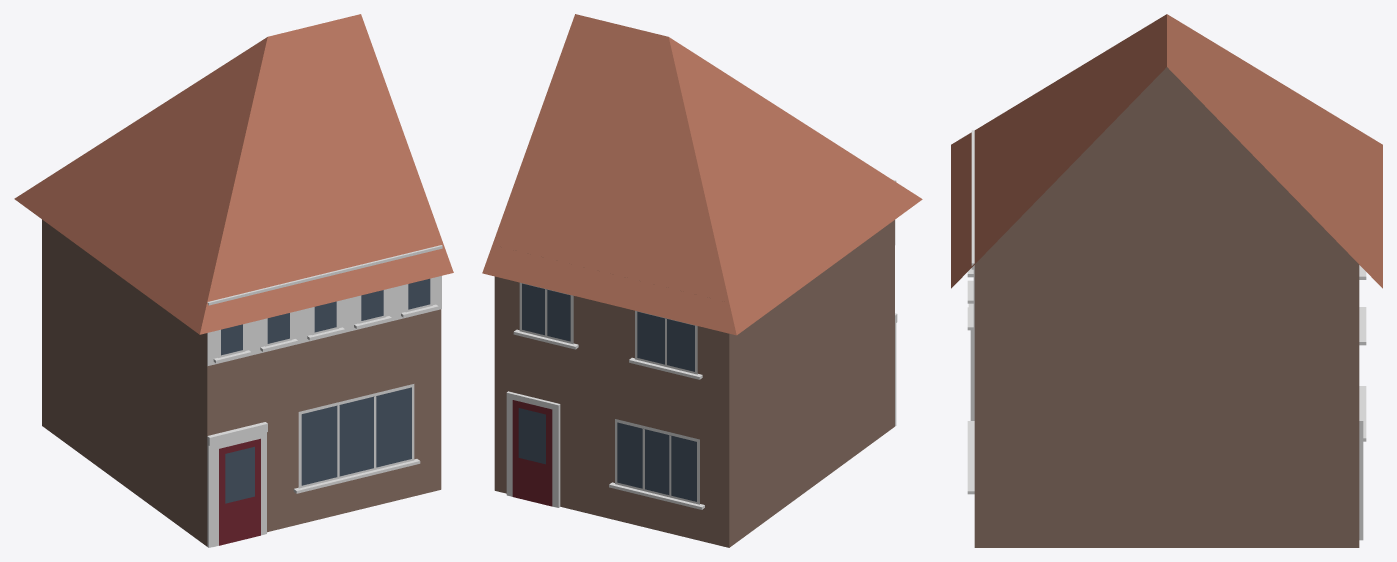
File: nn-band__band__2__hip__long__solid__endL.glb
3 renders of one model, left to right at view 1: azimuth 30°, elevation 25°; view 2: azimuth 150°, elevation 25°; view 3: azimuth 270°, elevation 25°, orthographic. The views are drawn at different scales.
Visible parts, largest first — view 1: nn-band__band__2__hip__long__solid__endL; view 2: nn-band__band__2__hip__long__solid__endL; view 3: nn-band__band__2__hip__long__solid__endL.
Boxes of the visible parts, left/top/right/bottom form: nn-band__band__2__hip__long__solid__endL: left=14, top=14, right=453, bottom=547; nn-band__band__2__hip__long__solid__endL: left=482, top=14, right=922, bottom=547; nn-band__band__2__hip__long__solid__endL: left=951, top=14, right=1382, bottom=547.
Bounding box in the file's own units: 5.76 × 8.98 × 7.29.
